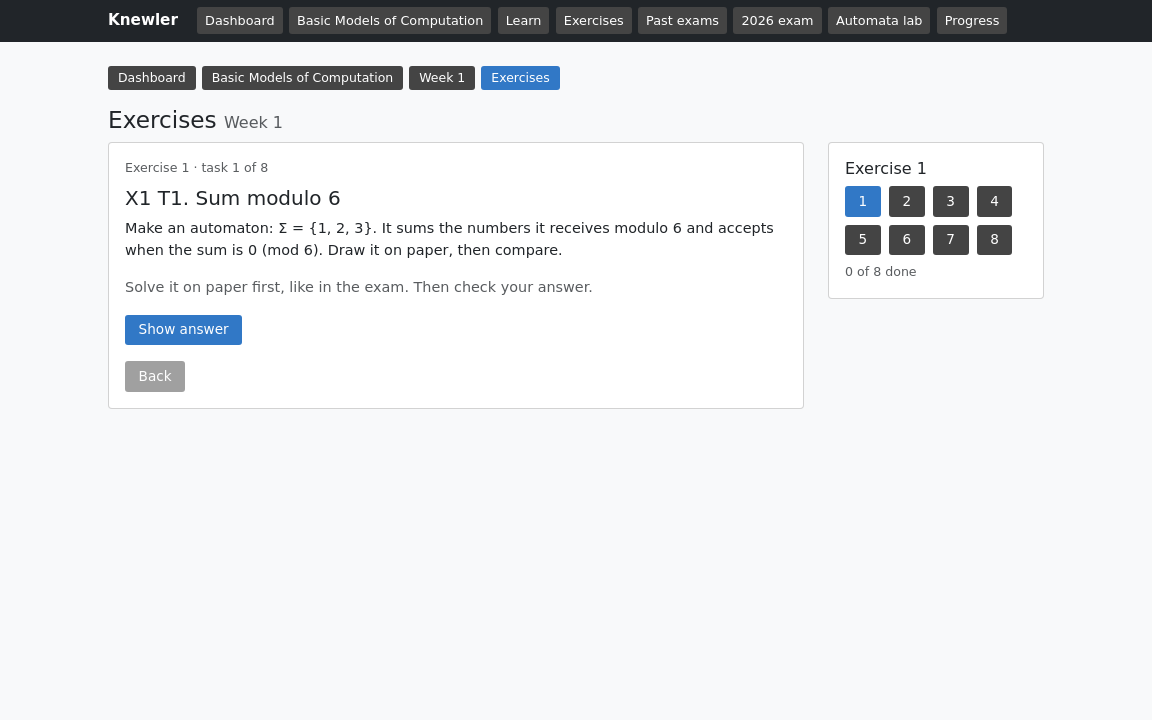
Scenario: Plain-words help on the BMC exercises › after Show answer: a simple explanation on request and a Wikipedia summary of a topic
The width and height of the screenshot is (1152, 720).
Check: the heading "X1 T1. Sum modulo 6" is shown, box [125, 186, 341, 210]
Check: the button "Explain it simply" is not shown
Step 1. Click the button "Show answer" → (184, 330), box [125, 315, 242, 345]
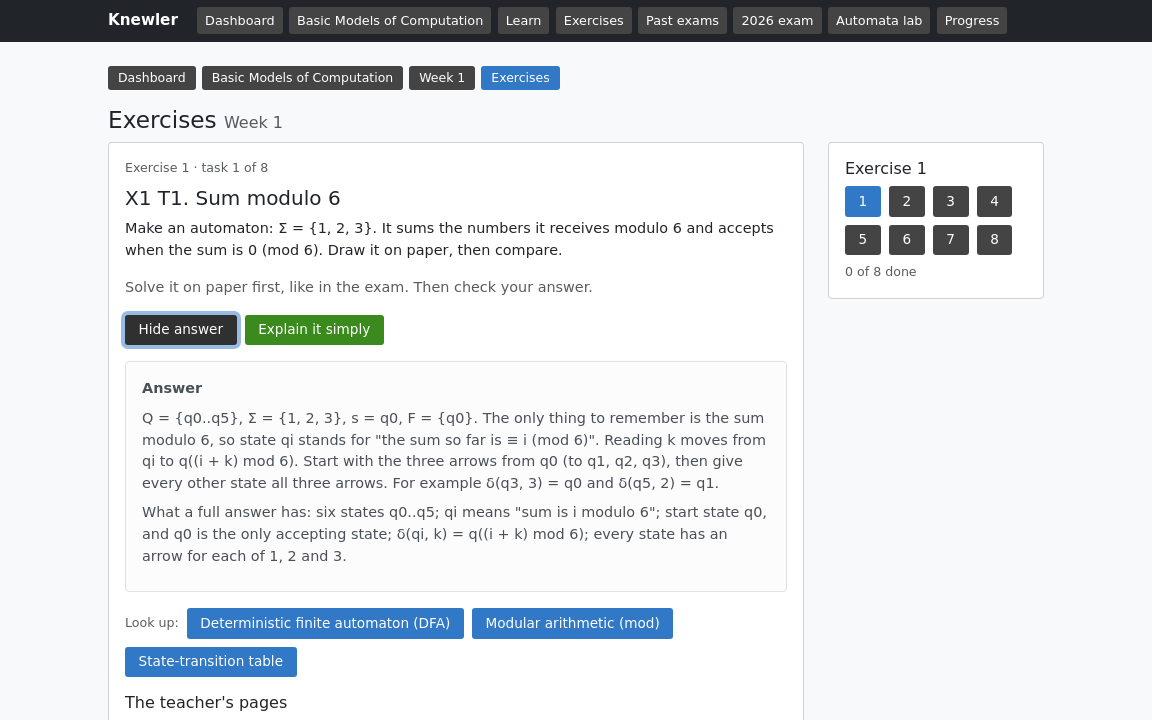
Step 2. Click the button "Explain it simply" → (314, 330), box [245, 315, 384, 345]
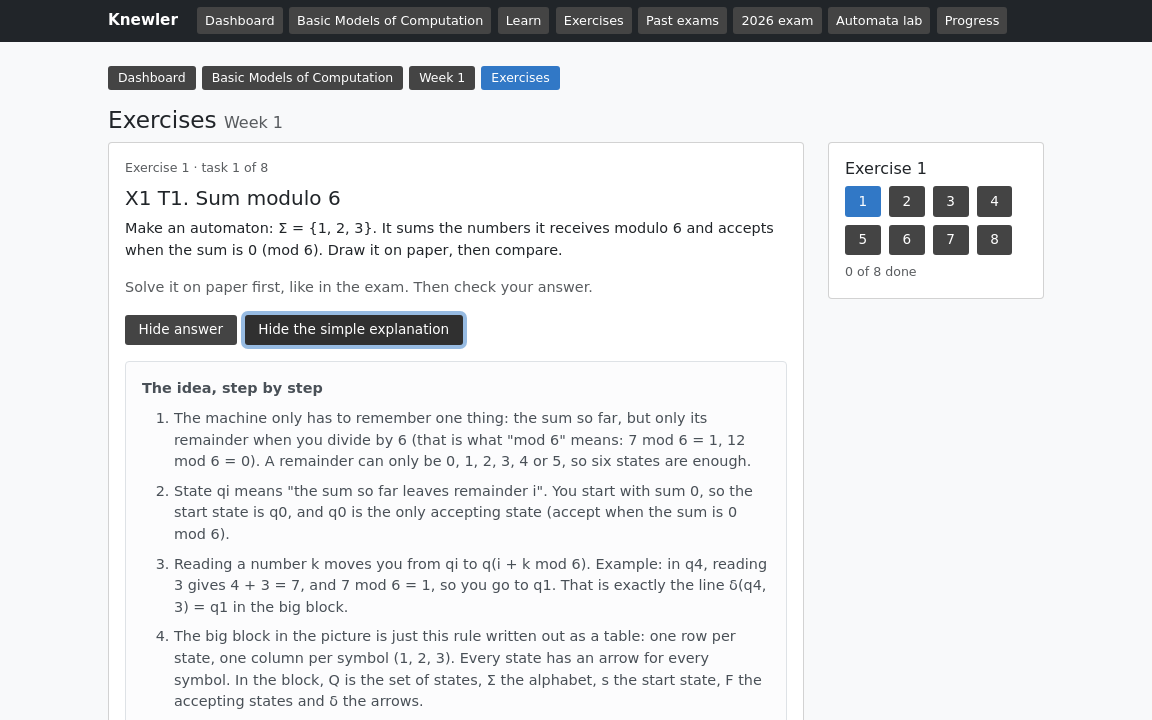
Check: the element named "Simple explanation" shows "remainder", box [174, 410, 751, 469]
Check: the element named "Simple explanation" shows "δ(q4, 3) = q1", box [174, 556, 767, 615]
Step 3. Click the button "Hide the simple explanation" → (354, 330), box [245, 315, 463, 345]
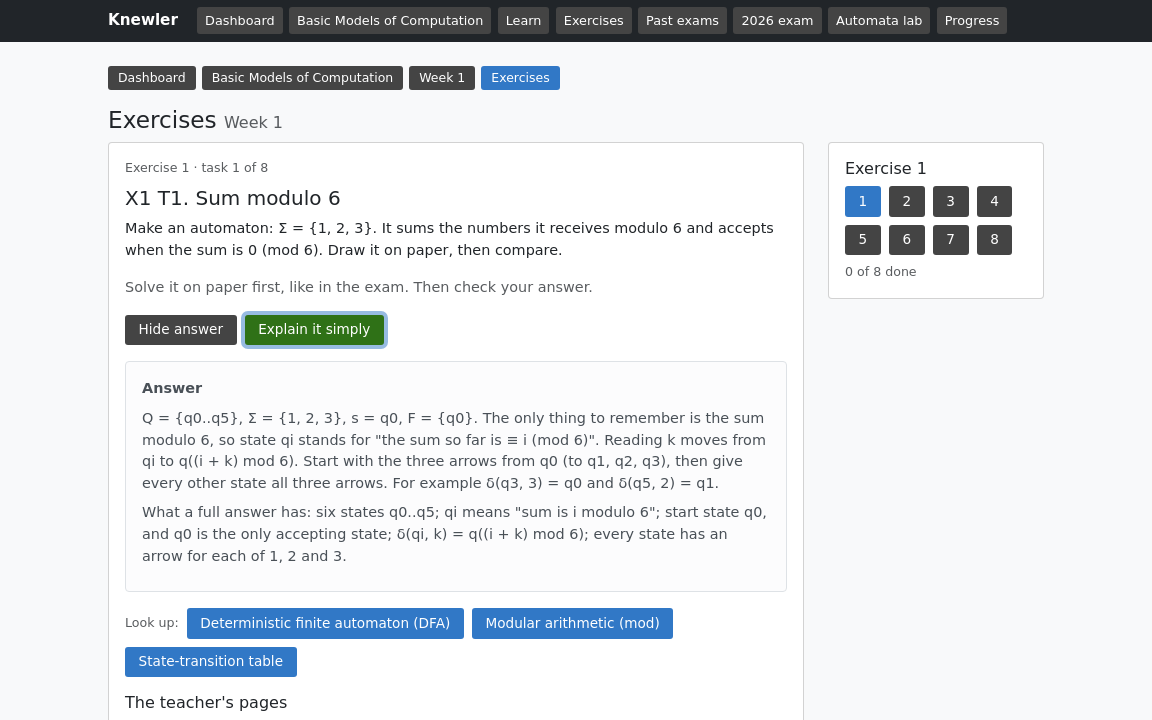
Check: the button "simple explanation" is gone
Step 4. Click the button "Modular arithmetic (mod)" → (573, 623), box [472, 608, 673, 639]
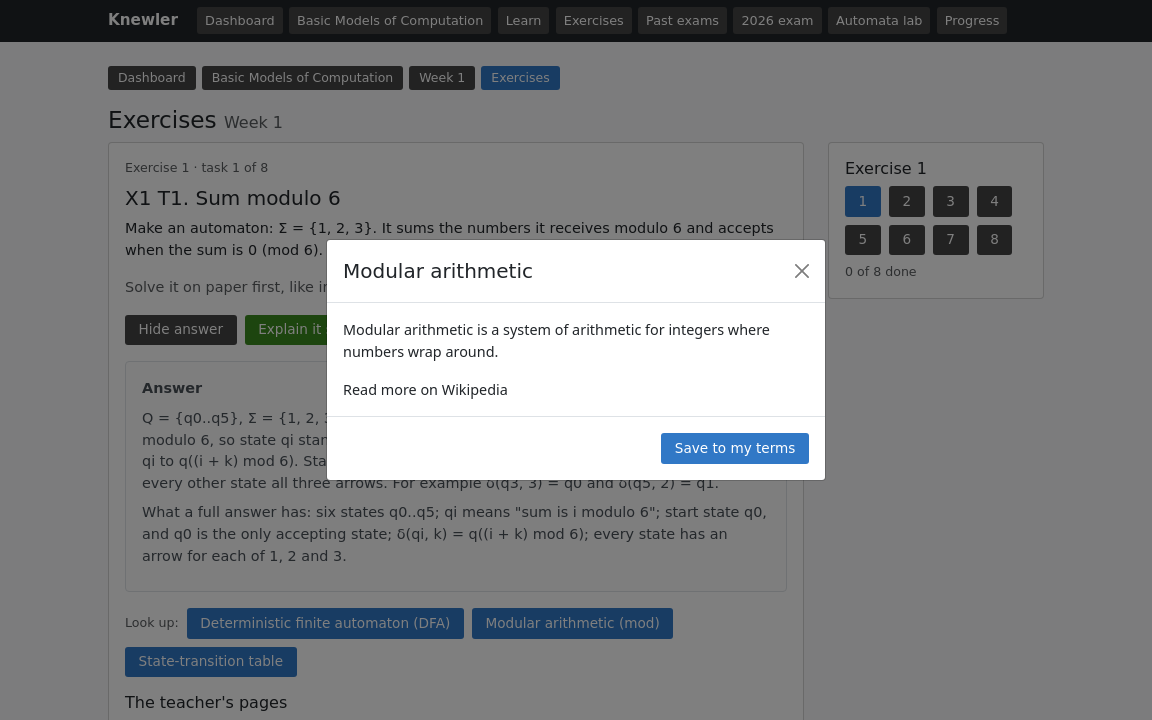
Check: the text "numbers wrap around" is shown, box [343, 320, 770, 361]
